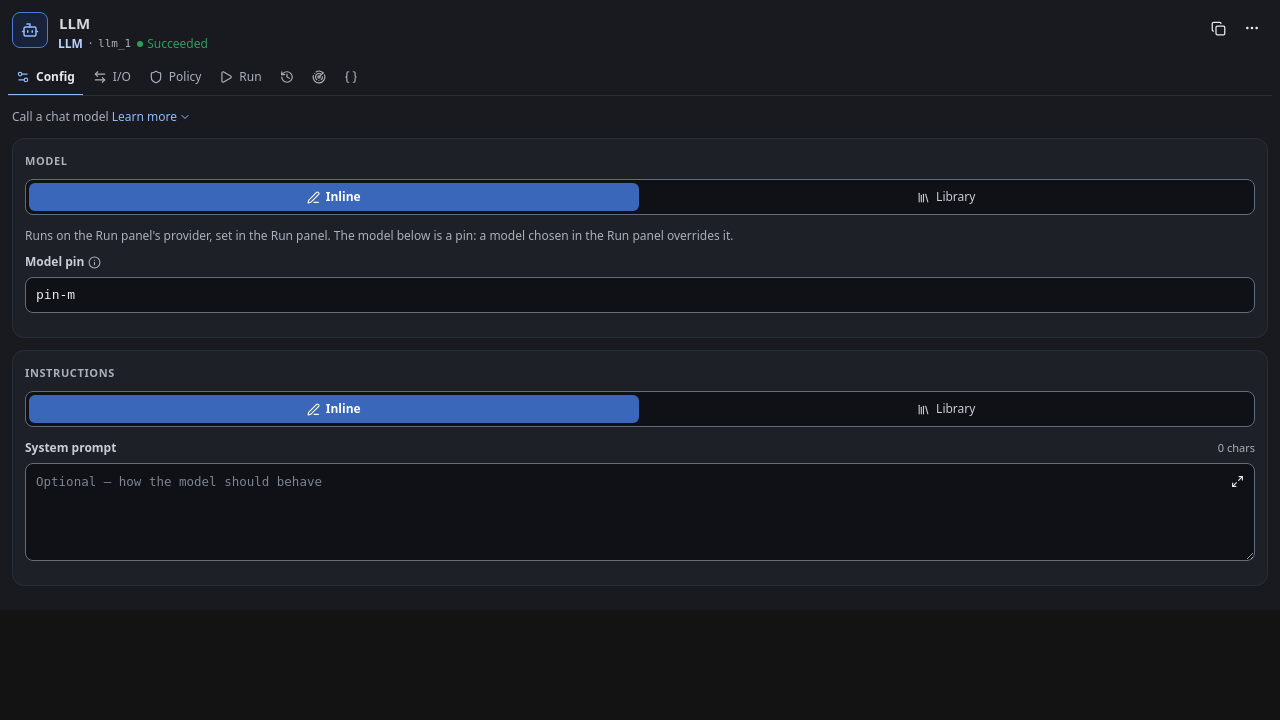
Test: NodeInspector Run tab model line › says what the node ran on and where the model came from
Click the tab "Run" at (241, 78), box x1=211 y1=60 x2=270 y2=96
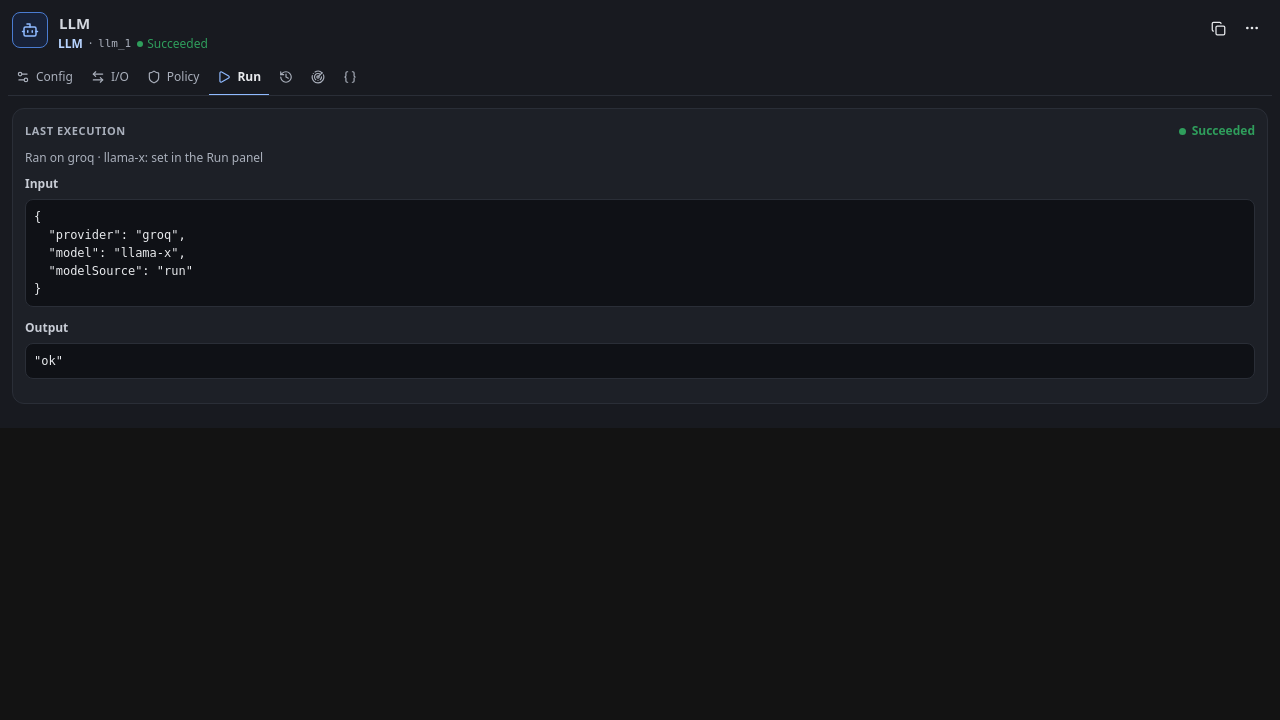
Expected: the text with test id "ran-on" reads "Ran on groq · llama-x: set in the Run panel", x1=25 y1=149 x2=263 y2=166
